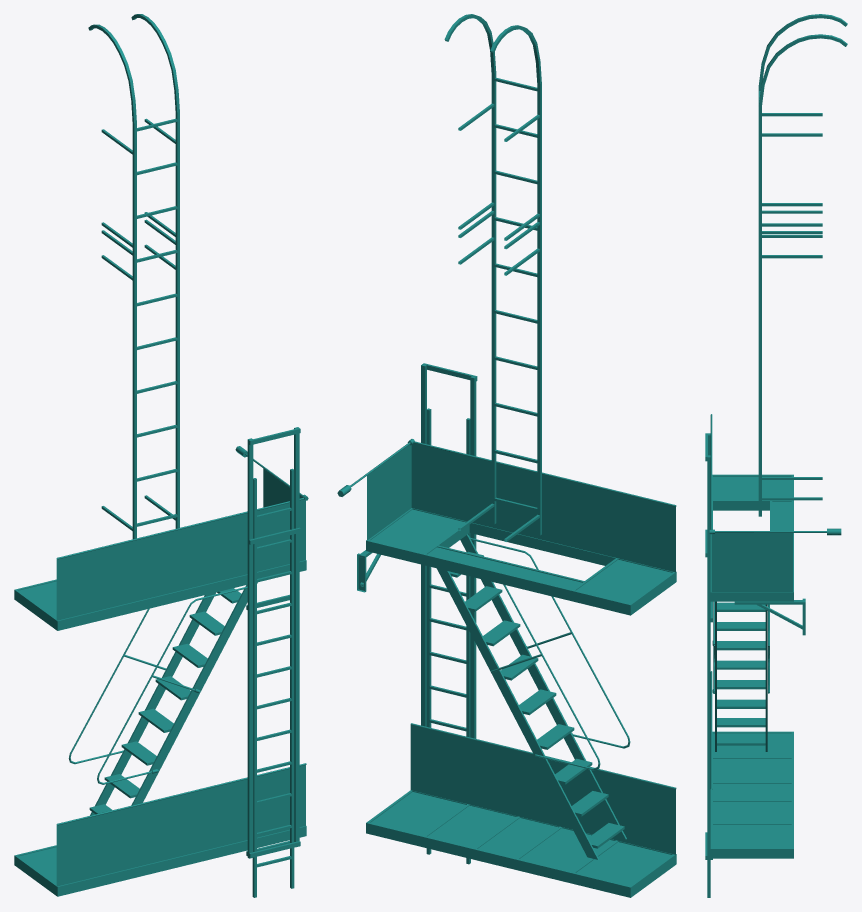
File: ladder.FBX
3 renders of one model, left to right at view 1: azimuth 30°, elevation 25°; view 2: azimuth 150°, elevation 25°; view 3: azimuth 270°, elevation 25°, orthographic. The views are drawn at different scales.
Visible parts, largest first — view 1: Object385th56, Box0587y67, Object3he56, Line0335, ladder54, Line003he5hg, Group121, Plane039656; view 2: Object385th56, Box0587y67, Object3he56, Line003he5hg, Group121, Line0335, Plane039656, ladder54; view 3: Object385th56, Plane039656, Object3he56, Box0587y67, Group121, Line003he5hg, Line0335, Box06056.
Boxes of the visible parts, x1,y1,x2,y2 form: Object385th56: [14, 763, 306, 896]; Box0587y67: [14, 497, 306, 630]; Object3he56: [68, 582, 257, 815]; Line0335: [246, 427, 300, 858]; ladder54: [252, 468, 294, 897]; Line003he5hg: [101, 219, 179, 539]; Group121: [88, 14, 179, 250]; Plane039656: [235, 446, 308, 507]; Object385th56: [366, 723, 676, 897]; Box0587y67: [366, 441, 676, 615]; Object3he56: [437, 534, 630, 859]; Line003he5hg: [458, 205, 541, 541]; Group121: [444, 14, 541, 240]; Line0335: [421, 363, 477, 738]; Plane039656: [337, 439, 414, 540]; ladder54: [426, 408, 470, 864]; Object385th56: [710, 671, 793, 858]; Plane039656: [709, 528, 841, 591]; Object3he56: [712, 601, 769, 751]; Box0587y67: [710, 414, 793, 601]; Group121: [758, 14, 847, 227]; Line003he5hg: [758, 210, 822, 516]; Line0335: [705, 433, 712, 861]; Box06056: [734, 598, 805, 635].
Size of the model in its own units: 4.04 by 13.03 by 2.04.
